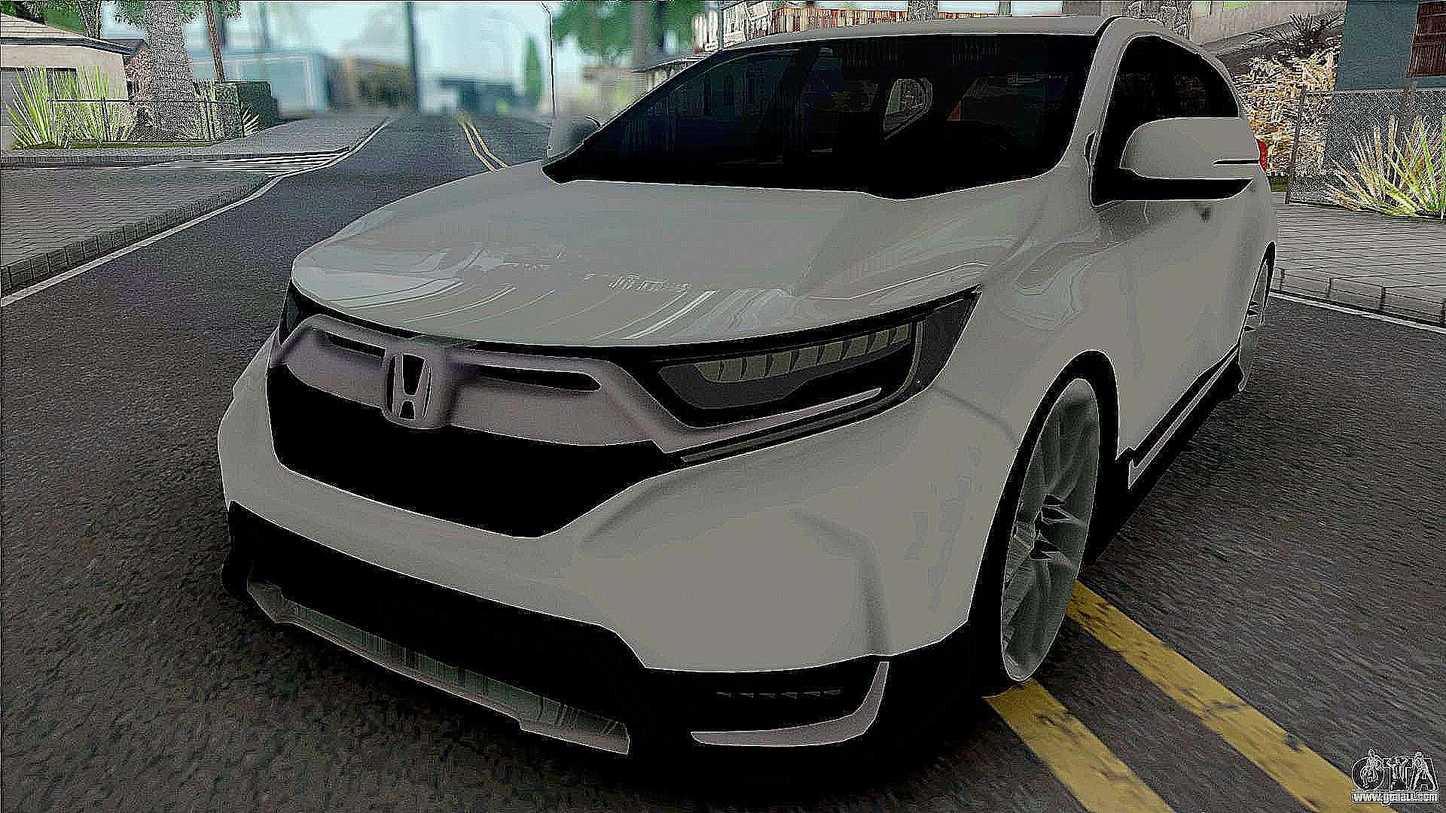Car hood: (288, 157, 1047, 348)
Fender - -F-L-: (932, 150, 1140, 568)
Front bumper: (207, 343, 1023, 804)
Headlight - -L-: (618, 286, 1006, 448)
Headlight - -R-: (264, 264, 342, 366)
Passenger-s door - -F-L-: (1094, 18, 1202, 497)
Passenger-s door - -R-L-: (1192, 26, 1264, 416)
Side bumper - -L-: (1079, 341, 1258, 581)
Side mirror - -L-: (1106, 95, 1277, 215)
Side mirror - -R-: (524, 100, 631, 182)
